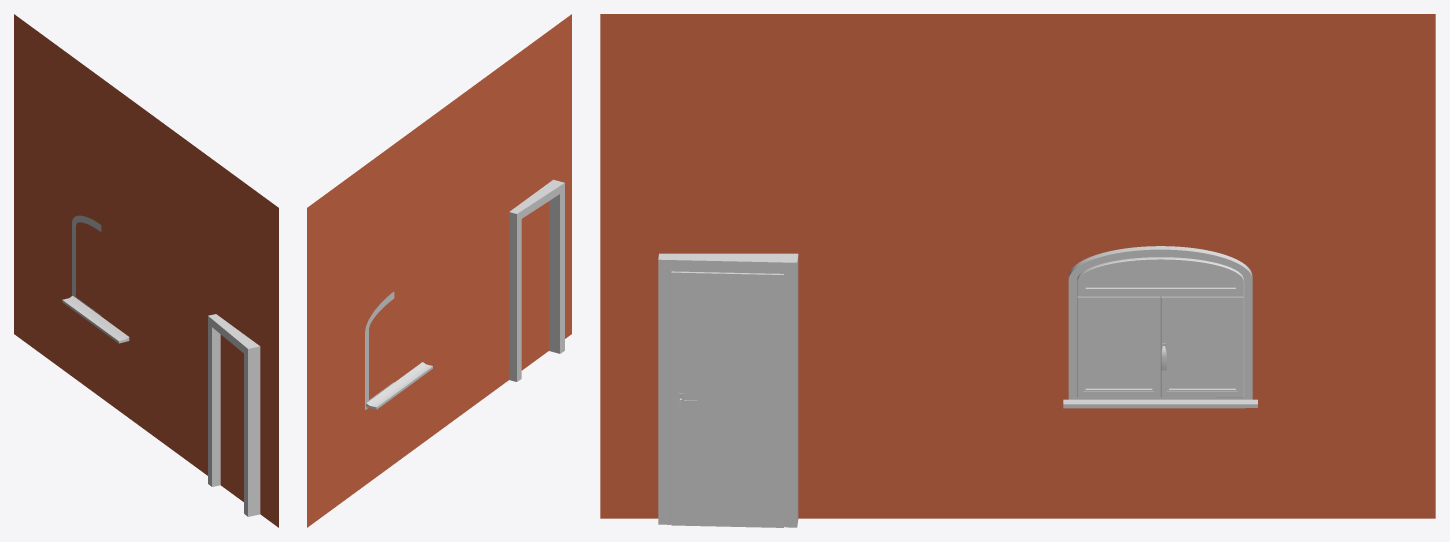
File: wall1.glb
The picture shows the model from 3 angles, left to right: view 1: azimuth 30°, elevation 25°; view 2: azimuth 150°, elevation 25°; view 3: azimuth 270°, elevation 25°; orthographic projection. The views are drawn at different scales.
Parts seen in each view (by area): view 1: Wall, Door, Window; view 2: Wall, Door, Window; view 3: Wall, Panel, Door, Window Panel.003, Window Panel.002, Window, Window Panel.004.
Boxes of the visible parts, x1,y1,x2,y2 form: Wall: [14, 14, 278, 527]; Door: [208, 314, 260, 516]; Window: [62, 215, 129, 343]; Wall: [307, 14, 571, 527]; Door: [509, 179, 564, 381]; Window: [365, 291, 432, 409]; Wall: [600, 14, 1435, 518]; Panel: [671, 271, 783, 527]; Door: [658, 253, 798, 527]; Window Panel.003: [1077, 296, 1160, 397]; Window Panel.002: [1160, 296, 1244, 397]; Window: [1063, 246, 1257, 408]; Window Panel.004: [1077, 257, 1244, 296].
Bounding box in the file's own units: 0.3324 × 4 × 6.
